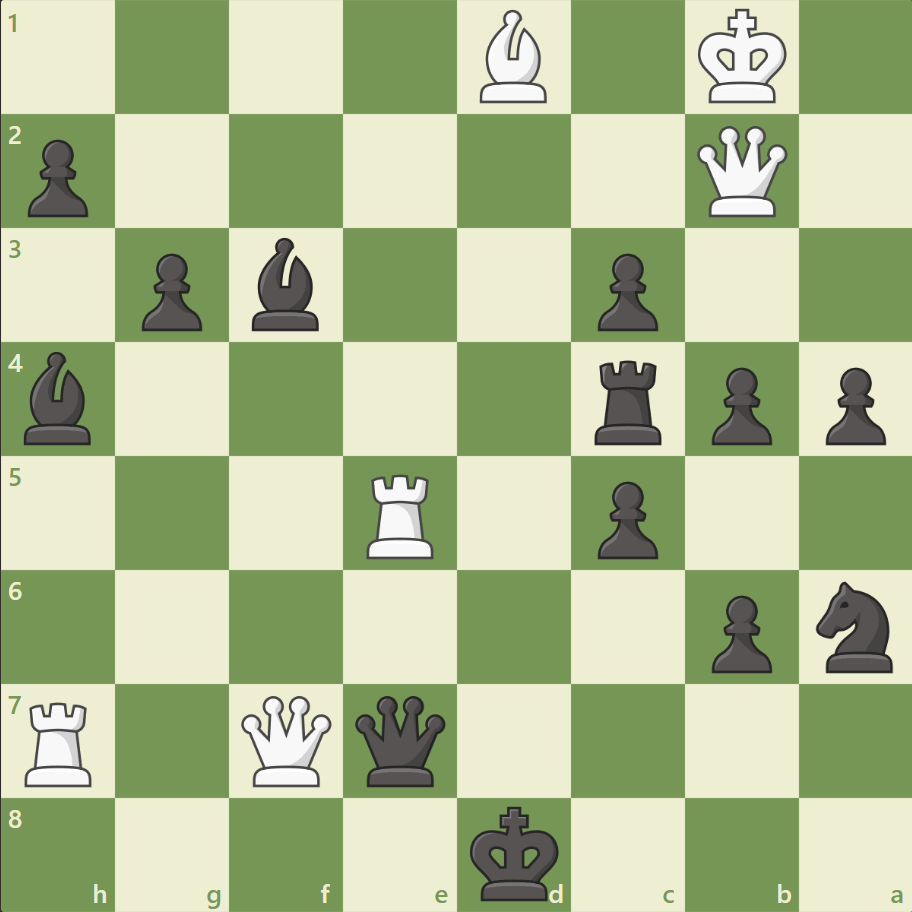B: (471, 6, 555, 109)
K: (692, 4, 792, 112)
Q: (691, 122, 790, 222), (237, 690, 336, 789)
R: (19, 693, 102, 790), (360, 466, 442, 563)
b: (244, 233, 328, 336), (17, 347, 101, 449)
k: (465, 798, 565, 906)
n: (806, 575, 903, 677)
p: (701, 586, 776, 677), (701, 359, 776, 450), (133, 246, 208, 337), (20, 132, 95, 223), (588, 473, 662, 564), (815, 359, 889, 450), (588, 246, 662, 337)
q: (351, 690, 450, 789)
r: (587, 352, 670, 449)
